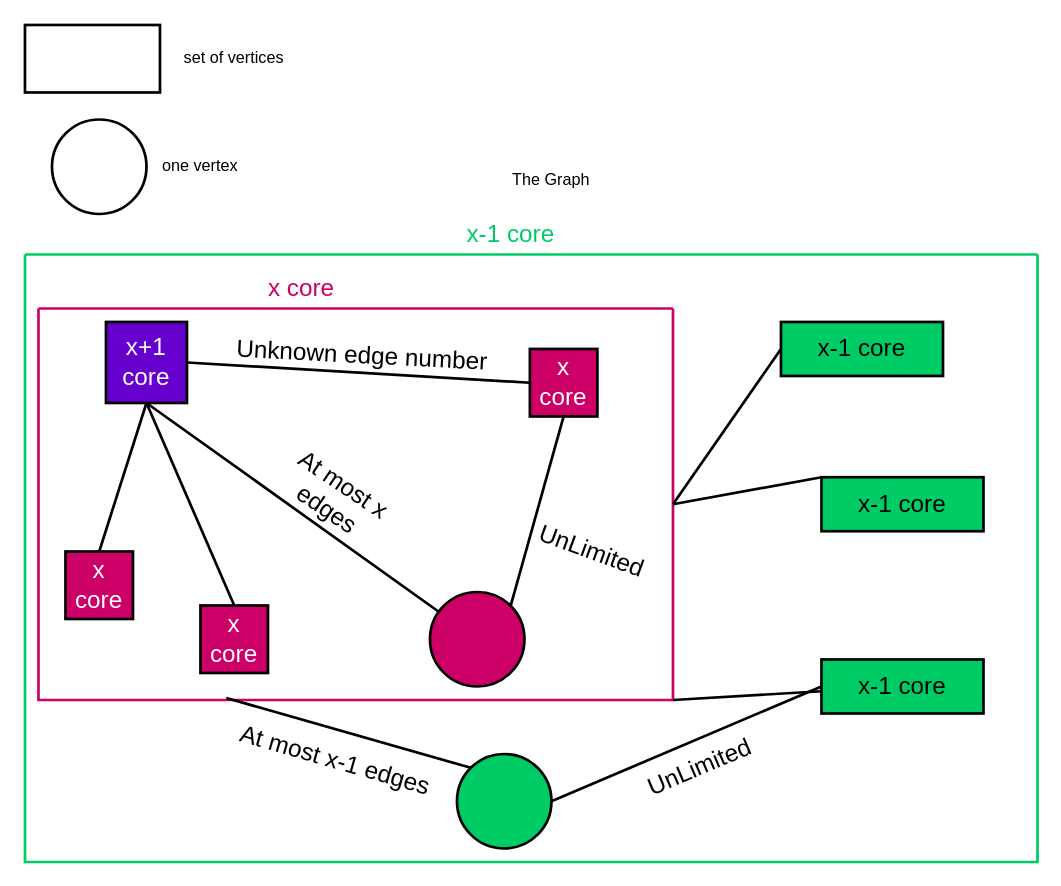
Image size: 1061x886. Some labels were removed from this diagram. Here are the shapes that lost their labels. From the top down, the centre of each, then its label:
the point at 92,58: A rectangle
the point at 98,166: Circle
the point at 476,638: Vertex A
the point at 503,800: Vertex B
